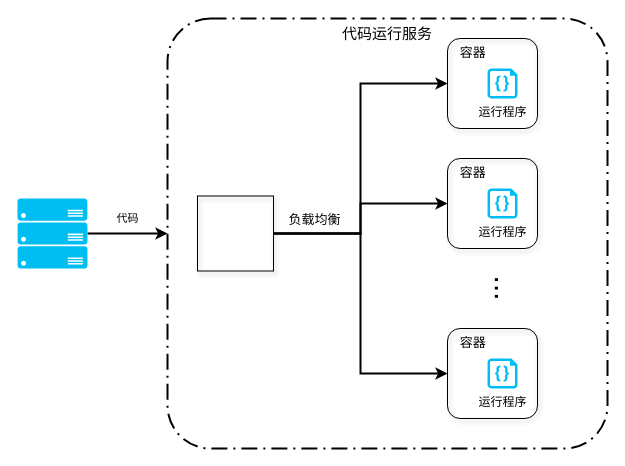
The diagram is 625 pixels wide and 466 high, and some of its shapes have lost their labels. The shapes that lost their labels are listed below. From the top down, each one's centre as x and y in pixels, then its label:
[52,233]: 后台服务器
[236,234]: Nginx
